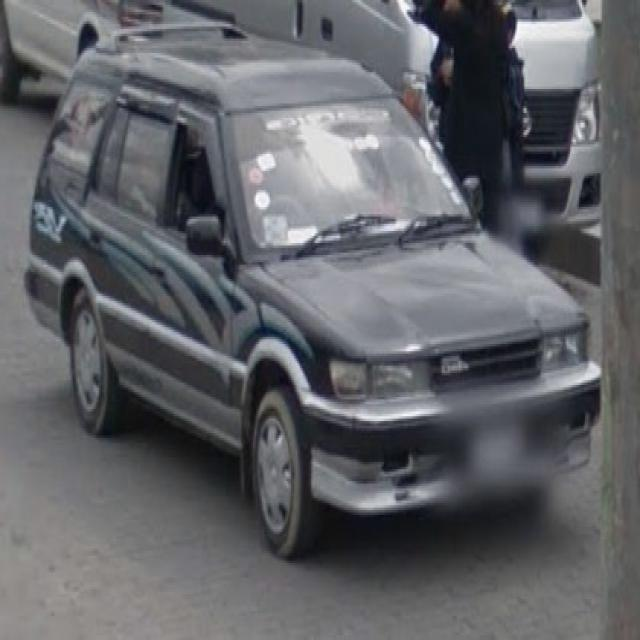Car: (25, 46, 596, 576)
